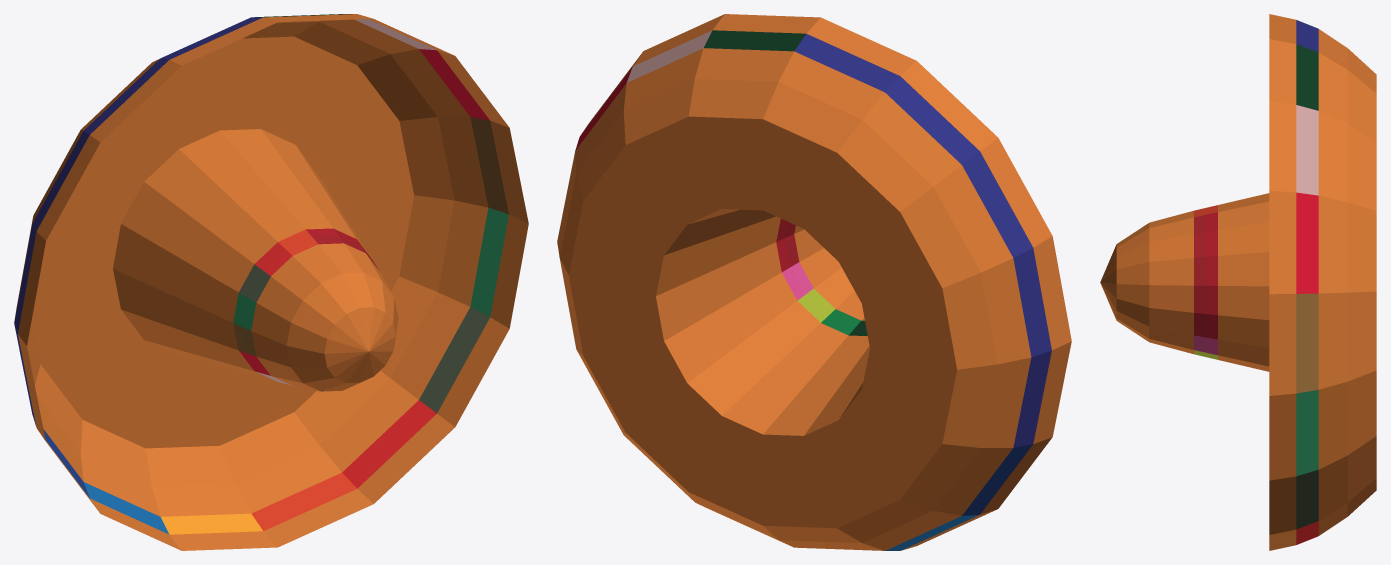
Rendered from hat-sombrero.glb.
The picture shows the model from 3 angles, left to right: view 1: azimuth 30°, elevation 25°; view 2: azimuth 150°, elevation 25°; view 3: azimuth 270°, elevation 25°; orthographic projection. The views are drawn at different scales.
Visible parts, largest first — view 1: hat-sombrero; view 2: hat-sombrero; view 3: hat-sombrero.
Part boxes in pixels (x1,y1,x2,y2): hat-sombrero: [14, 14, 528, 550]; hat-sombrero: [557, 14, 1071, 550]; hat-sombrero: [1100, 14, 1376, 550].
Size of the model in its own units: 1 by 1 by 0.5146.
1 material, 1 textured.
